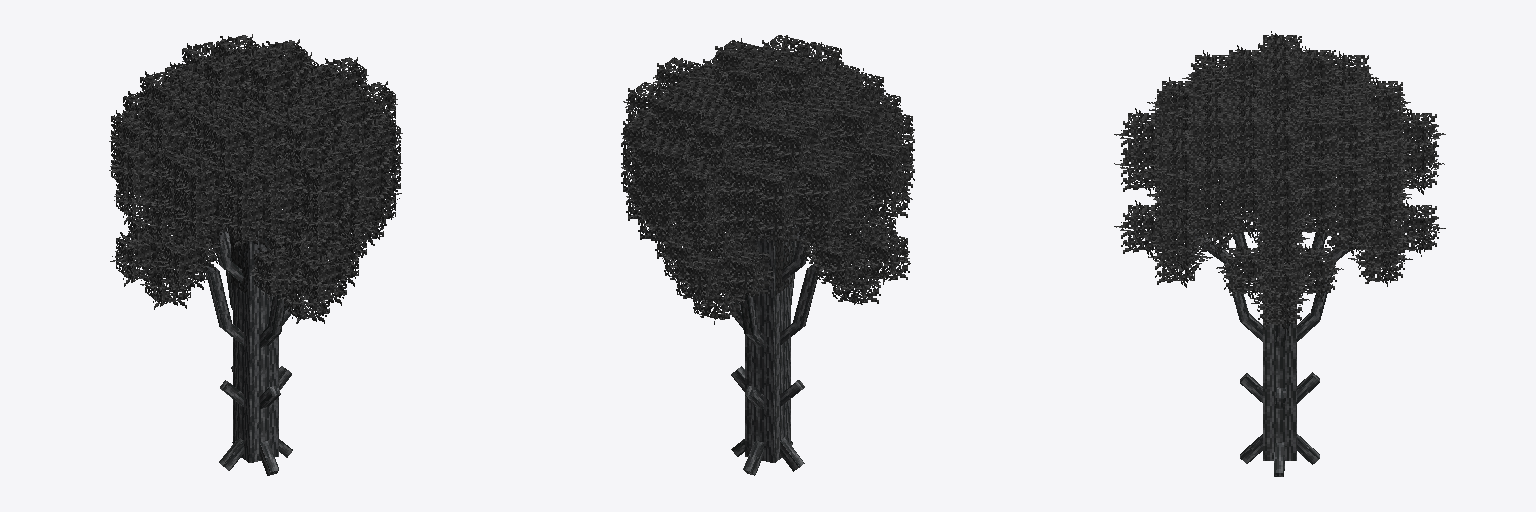
The picture shows the model from 3 angles: view 1: azimuth 30°, elevation 25°; view 2: azimuth 150°, elevation 25°; view 3: azimuth 270°, elevation 25°; orthographic projection.
Visible parts, largest first — view 1: cube.026; view 2: cube.026; view 3: cube.026.
Boxes of the visible parts, x1,y1,x2,y2 form: cube.026: [109, 34, 402, 475]; cube.026: [621, 35, 914, 475]; cube.026: [1114, 31, 1445, 476].
Bounding box in the file's own units: 10.12 × 13.49 × 10.12.
1 materials, 1 textured.